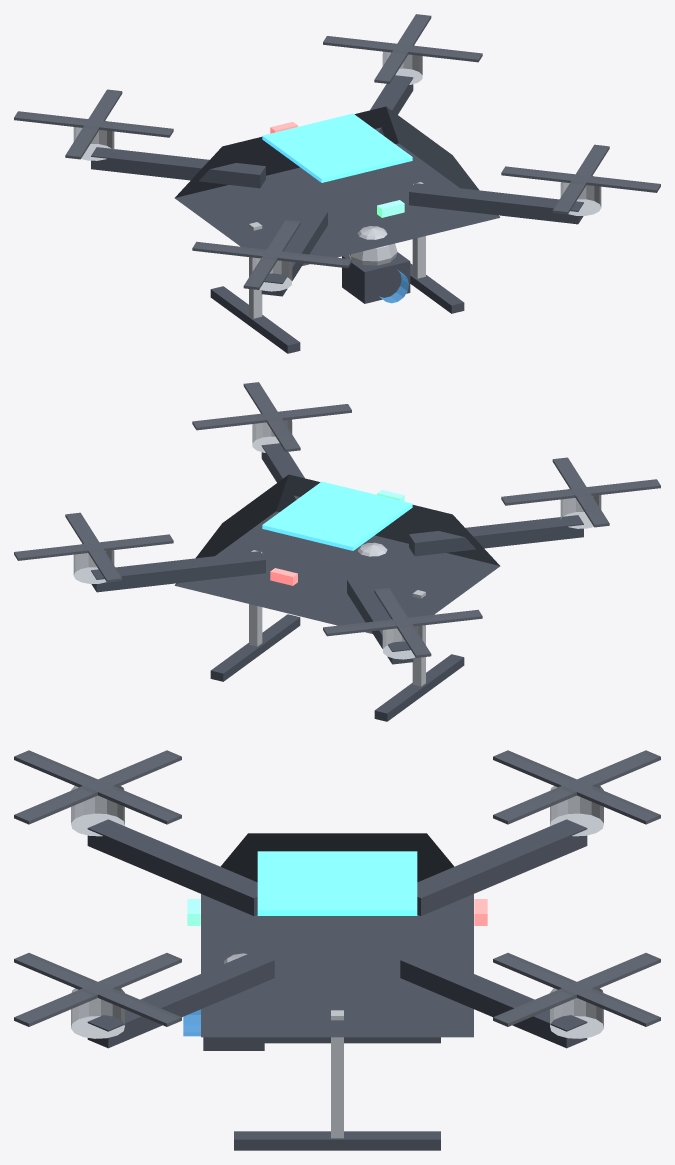
Rendered from drone.glb.
3 views of the same model, one above another, from view 1: azimuth 30°, elevation 25°; view 2: azimuth 150°, elevation 25°; view 3: azimuth 270°, elevation 25° (orthographic). The views are drawn at different scales.
Visible parts, largest first — view 1: BODY, TOP_STRIP, ARM_BL, ARM_FR, PROP_BL, PROP_FR, PROP_FL, PROP_BR, CAMERA, FOOT_L, ARM_FL, GIMBAL (+8 smaller); view 2: BODY, TOP_STRIP, ARM_FL, ARM_BR, PROP_FL, PROP_BR, PROP_BL, PROP_FR, FOOT_R, FOOT_L, ARM_BL, ARM_FR (+6 smaller); view 3: BODY, TOP_STRIP, ARM_BL, ARM_FL, ARM_FR, ARM_BR, PROP_BL, PROP_FL, PROP_FR, PROP_BR, FOOT_R, MOTOR_FR (+6 smaller).
Part boxes in pixels (x1,y1,x2,y2): BODY: (174, 106, 500, 265); TOP_STRIP: (262, 113, 412, 182); ARM_BL: (91, 147, 265, 188); ARM_FR: (409, 183, 583, 224); PROP_BL: (14, 89, 173, 159); PROP_FR: (501, 144, 660, 214); PROP_FL: (192, 220, 351, 289); PROP_BR: (323, 14, 482, 83); CAMERA: (342, 252, 410, 303); FOOT_L: (210, 286, 300, 353); ARM_FL: (261, 209, 327, 296); GIMBAL: (349, 226, 397, 265); BODY: (174, 474, 500, 633); TOP_STRIP: (262, 481, 412, 550); ARM_FL: (409, 515, 583, 556); ARM_BR: (91, 551, 265, 592); PROP_FL: (501, 457, 660, 527); PROP_BR: (14, 512, 173, 582); PROP_BL: (323, 588, 482, 657); PROP_FR: (192, 382, 351, 451); FOOT_R: (210, 614, 300, 681); FOOT_L: (374, 654, 464, 721); ARM_BL: (347, 577, 413, 664); ARM_FR: (261, 443, 304, 503); BODY: (201, 833, 473, 1037); TOP_STRIP: (257, 851, 417, 915); ARM_BL: (417, 819, 587, 915); ARM_FL: (87, 819, 257, 915); ARM_FR: (87, 951, 274, 1048); ARM_BR: (400, 951, 587, 1048); PROP_BL: (493, 750, 660, 824); PROP_FL: (14, 750, 181, 824); PROP_FR: (14, 953, 181, 1026); PROP_BR: (493, 953, 660, 1026); FOOT_R: (234, 1131, 440, 1150); MOTOR_FR: (71, 988, 124, 1038).
Size of the model in its own units: 1.38 by 0.497 by 1.38.
